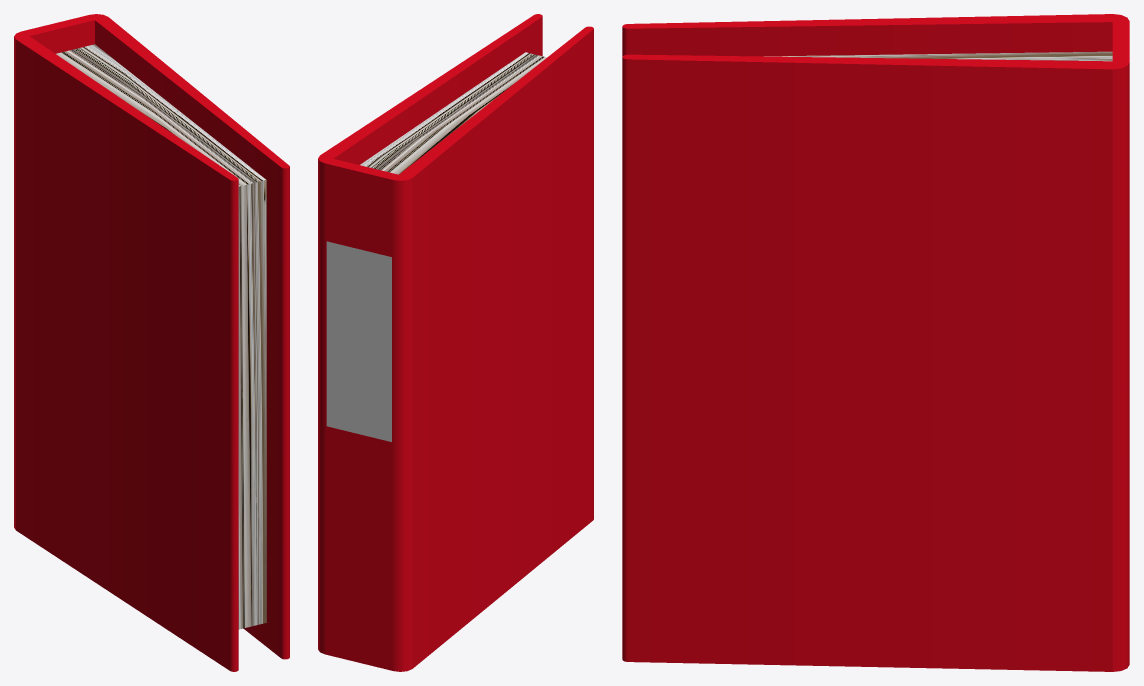
Rendered from papers.fbx.
The picture shows the model from 3 angles, left to right: view 1: azimuth 30°, elevation 25°; view 2: azimuth 150°, elevation 25°; view 3: azimuth 270°, elevation 25°; orthographic projection. The views are drawn at different scales.
Visible parts, largest first — view 1: Cube, Cube.001; view 2: Cube, Cube.001; view 3: Cube, Cube.001.
Boxes of the visible parts, box(x1,y1,x2,y2) form: Cube: box(14, 14, 289, 671); Cube.001: box(56, 44, 266, 629); Cube: box(318, 14, 593, 671); Cube.001: box(360, 52, 546, 174); Cube: box(622, 14, 1129, 671); Cube.001: box(764, 51, 1112, 61).
Size of the model in its own units: 122 by 620 by 473.
Materials: 3 (1 with a texture image).
